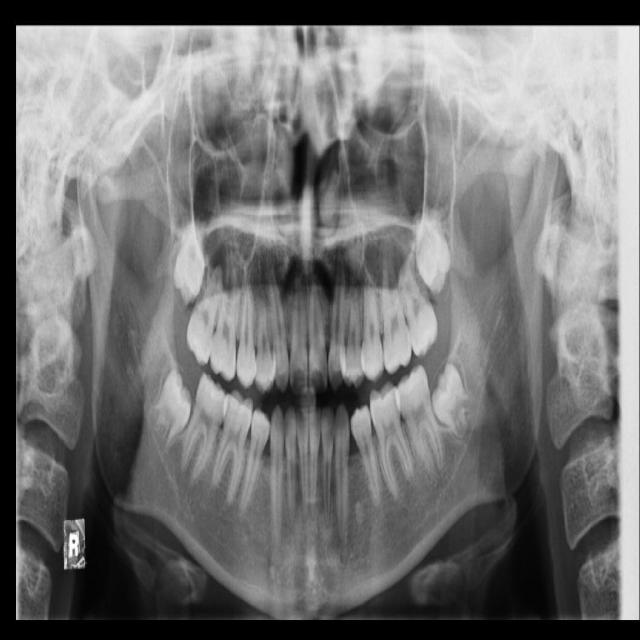3M ESPE Implant: (171, 193, 211, 307)
73: (592, 590, 598, 596)
BioHorizons Implant: (389, 235, 445, 363)
BioLife Implant: (412, 198, 453, 296)
Biomet 3i Implant: (416, 360, 490, 448)
Blue Sky Bio Implant: (388, 363, 449, 481)
Caries: (179, 254, 233, 369)
Implant: (175, 370, 235, 488)
Keystone Dental Implant: (139, 367, 206, 455)
